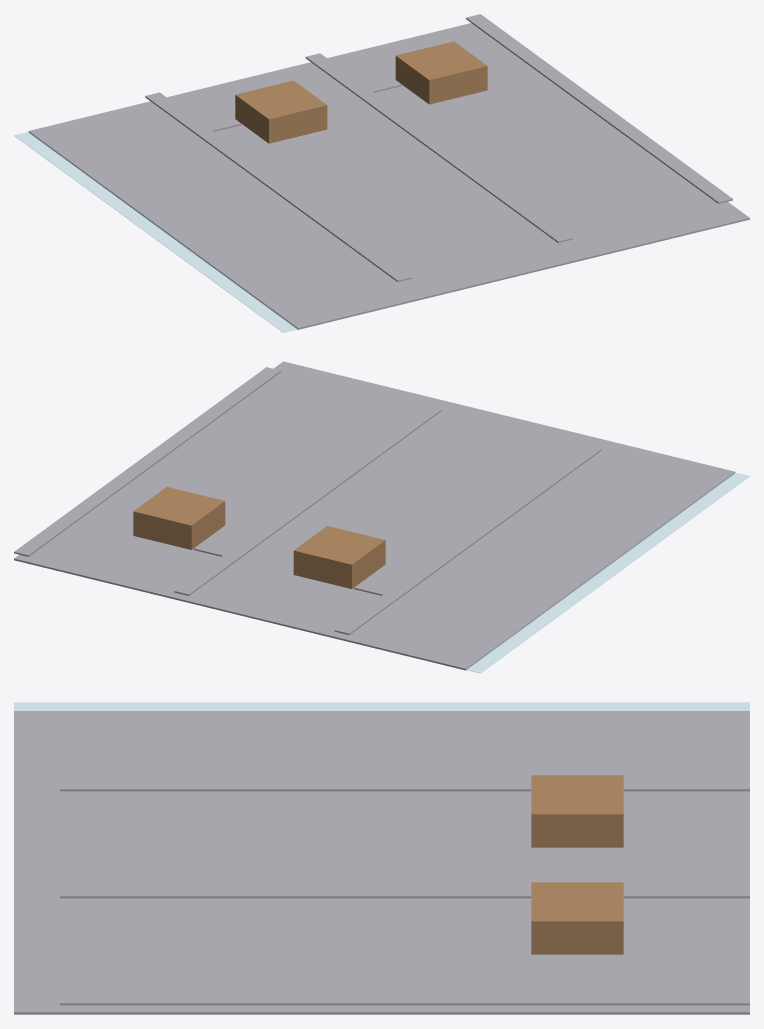
Rendered from city_c01_03.glb.
3 views of the same model, one above another, from view 1: azimuth 30°, elevation 25°; view 2: azimuth 150°, elevation 25°; view 3: azimuth 270°, elevation 25° (orthographic). The views are drawn at different scales.
Visible parts, largest first — view 1: terrain_west_proxy__c01_03, building_074__c01_03, building_073__c01_03, road_west_2__c01_03, road_west_4__c01_03, road_west_3__c01_03, river_water_proxy__c01_03; view 2: terrain_west_proxy__c01_03, building_073__c01_03, building_074__c01_03, road_west_3__c01_03, road_west_4__c01_03, road_west_2__c01_03, river_water_proxy__c01_03; view 3: terrain_west_proxy__c01_03, road_west_2__c01_03, road_west_3__c01_03, road_west_4__c01_03, building_073__c01_03, building_074__c01_03, river_water_proxy__c01_03.
Boxes of the visible parts, x1,y1,x2,y2 form: terrain_west_proxy__c01_03: (28, 23, 749, 329); building_074__c01_03: (235, 80, 327, 143); building_073__c01_03: (395, 41, 487, 104); road_west_2__c01_03: (466, 14, 732, 203); road_west_4__c01_03: (145, 92, 412, 281); road_west_3__c01_03: (305, 53, 572, 242); river_water_proxy__c01_03: (14, 132, 297, 332); terrain_west_proxy__c01_03: (14, 361, 735, 670); building_073__c01_03: (133, 487, 225, 549); building_074__c01_03: (293, 526, 385, 588); road_west_3__c01_03: (174, 406, 441, 595); road_west_4__c01_03: (334, 445, 601, 635); road_west_2__c01_03: (14, 367, 280, 556); river_water_proxy__c01_03: (466, 472, 749, 673); terrain_west_proxy__c01_03: (14, 711, 749, 1014); road_west_2__c01_03: (60, 993, 749, 1005); road_west_3__c01_03: (60, 886, 749, 898); road_west_4__c01_03: (60, 779, 749, 791); building_073__c01_03: (531, 882, 623, 954); building_074__c01_03: (531, 775, 623, 847); river_water_proxy__c01_03: (14, 702, 749, 710).
Bounding box in the file's own units: 128 × 8.6 × 128.
